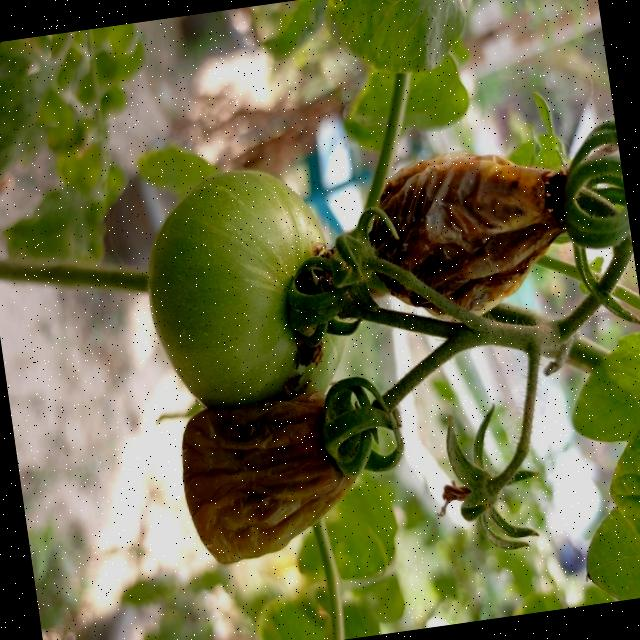Unripe: (137, 157, 370, 410)
